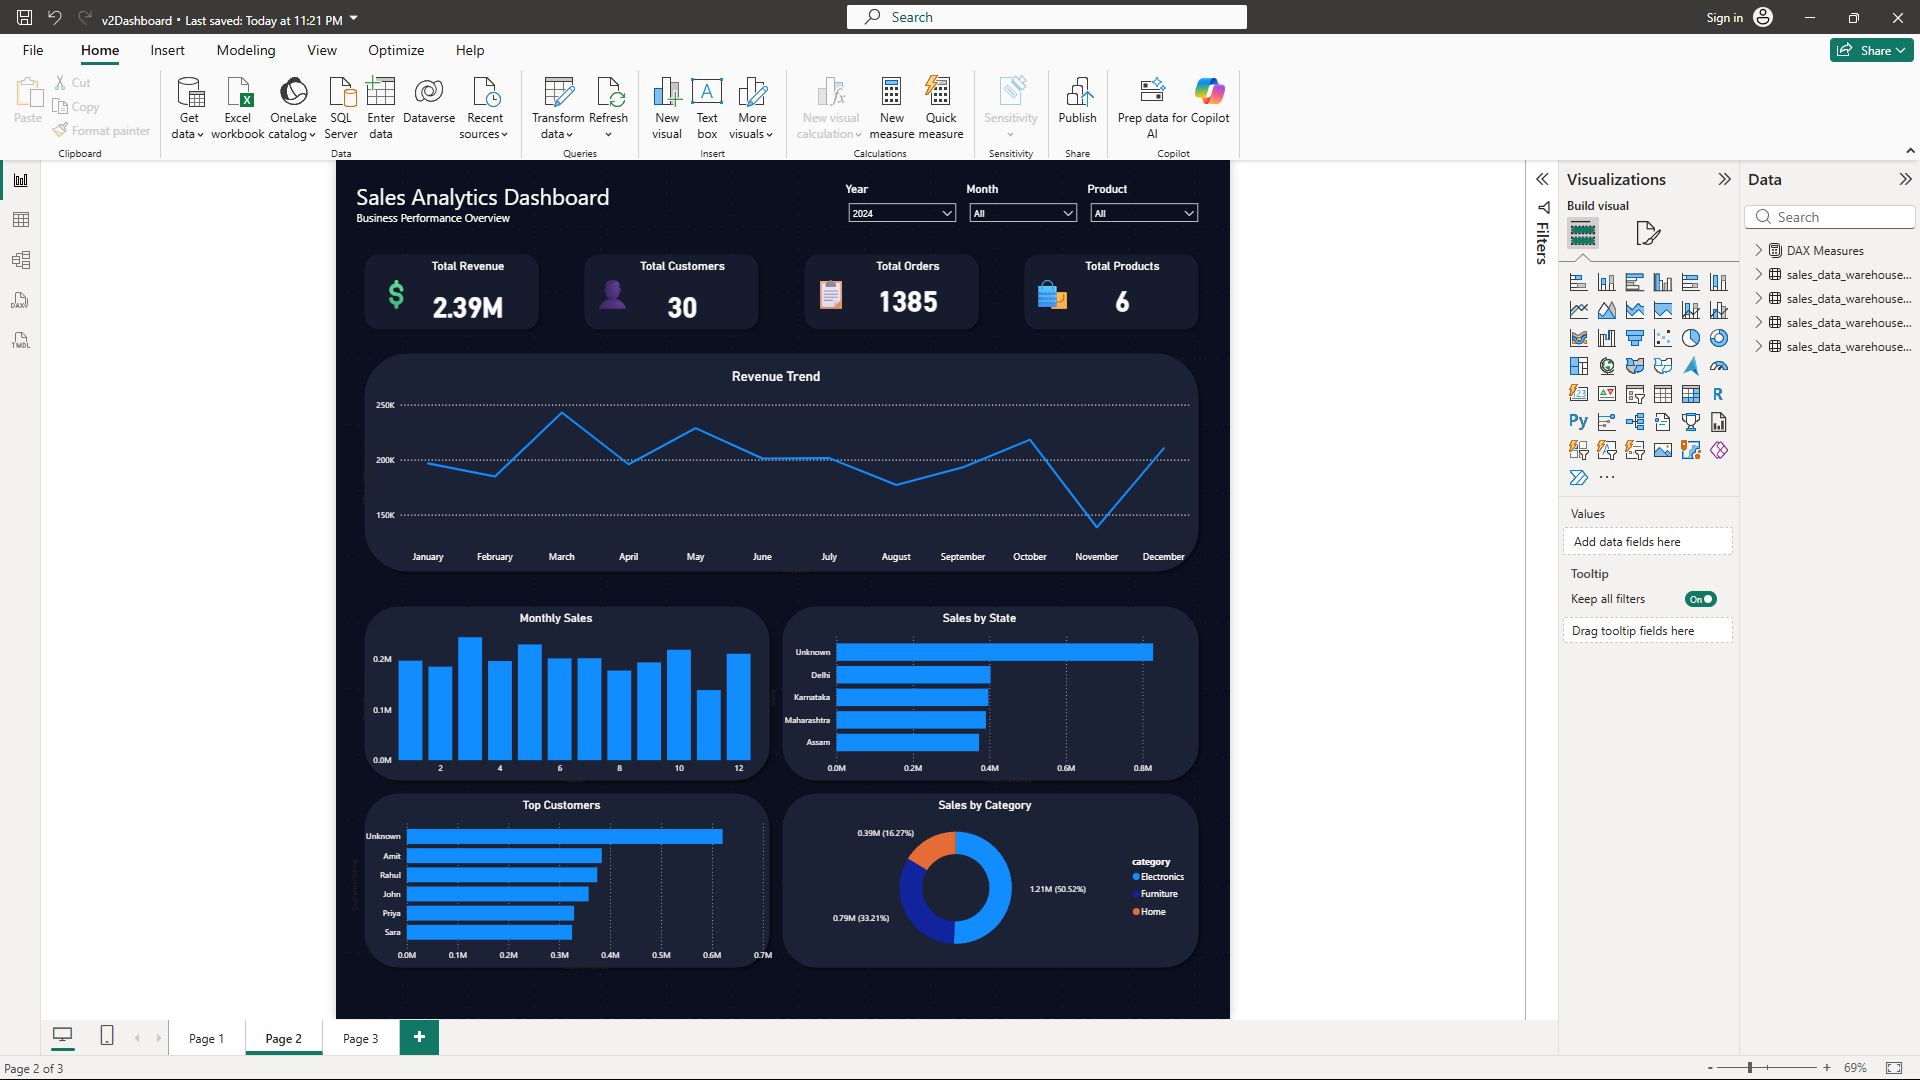

What the dashboard file says about the page in this screenshot:
{"tool":"powerbi","page":{"name":"Page 2","canvas":[1300,1250],"ordinal":0},"visuals":[{"type":"shape","box":[352,128,272,128],"z":0},{"type":"shape","box":[672,128,272,128],"z":1000},{"type":"shape","box":[32,128,272,128],"z":2000},{"type":"shape","box":[992,128,272,128],"z":3000},{"type":"shape","box":[32,272,1232,336],"z":4000},{"type":"shape","box":[32,640,608,272],"z":5000},{"type":"shape","box":[640,912,624,272],"z":6000},{"type":"shape","box":[640,640,624,272],"z":7000},{"type":"shape","box":[32,912,608,272],"z":8000},{"type":"lineChart","title":"Revenue Trend","fields":{"Y":["DAX Measures.Total Revenue"],"Category":["sales_data_warehouse dimdate.OrderDate.Variation.Date Hierarchy.Month"]},"box":[32,304,1216,304],"z":9000},{"type":"clusteredColumnChart","title":"Monthly Sales","fields":{"Y":["DAX Measures.Total Revenue"],"Category":["sales_data_warehouse dimdate.Month"]},"box":[32,656,576,256],"z":10000},{"type":"donutChart","title":"Sales by Category","fields":{"Y":["DAX Measures.Total Revenue"],"Category":["sales_data_warehouse dimproduct.category"]},"box":[640,928,608,240],"z":11000},{"type":"clusteredBarChart","title":"Top Customers","fields":{"Category":["sales_data_warehouse dimcustomer.CustomerName"],"Y":["DAX Measures.Total Revenue"]},"box":[16,928,624,256],"z":12000},{"type":"clusteredBarChart","title":" Sales by State","fields":{"Y":["DAX Measures.Total Revenue"],"Category":["sales_data_warehouse dimcustomer.state"]},"box":[624,656,624,256],"z":13000},{"type":"card","title":"Total Revenue","fields":{"Values":["DAX Measures.Total Revenue"]},"box":[64,144,256,112],"z":14000},{"type":"card","title":"Total Customers","fields":{"Values":["DAX Measures.Total Customer"]},"box":[384,144,240,112],"z":15000},{"type":"card","title":"Total Orders","fields":{"Values":["DAX Measures.Total Order"]},"box":[720,144,224,96],"z":16000},{"type":"card","title":"Total Products","fields":{"Values":["DAX Measures.Total Product"]},"box":[1024,144,240,96],"z":17000},{"type":"textbox","box":[24,24,408,96],"z":18000},{"type":"slicer","title":"Year","fields":{"Values":["sales_data_warehouse dimdate.Year"]},"box":[736,32,176,80],"z":19000},{"type":"slicer","title":"Month","fields":{"Values":["sales_data_warehouse dimdate.Month"]},"box":[912,32,176,96],"z":20000},{"type":"slicer","title":"Product","fields":{"Values":["sales_data_warehouse dimproduct.Product"]},"box":[1088,32,176,80],"z":21000},{"type":"textbox","box":[16,160,144,96],"z":22000},{"type":"textbox","box":[368,160,96,96],"z":23000},{"type":"textbox","box":[656,160,128,96],"z":24000},{"type":"textbox","box":[1008,160,80,96],"z":25000}]}

Visuals, with their boxes on the page's 1300x1250 design canvas (x1, y1, x2, y2). These are canvas units, not pixel positions in the 1920x1080 screenshot, which may show the page scaled, cropped or inside an application window:
shape: <region>352, 128, 624, 256</region>
shape: <region>672, 128, 944, 256</region>
shape: <region>32, 128, 304, 256</region>
shape: <region>992, 128, 1264, 256</region>
shape: <region>32, 272, 1264, 608</region>
shape: <region>32, 640, 640, 912</region>
shape: <region>640, 912, 1264, 1184</region>
shape: <region>640, 640, 1264, 912</region>
shape: <region>32, 912, 640, 1184</region>
"Revenue Trend" lineChart: <region>32, 304, 1248, 608</region>
"Monthly Sales" clusteredColumnChart: <region>32, 656, 608, 912</region>
"Sales by Category" donutChart: <region>640, 928, 1248, 1168</region>
"Top Customers" clusteredBarChart: <region>16, 928, 640, 1184</region>
" Sales by State" clusteredBarChart: <region>624, 656, 1248, 912</region>
"Total Revenue" card: <region>64, 144, 320, 256</region>
"Total Customers" card: <region>384, 144, 624, 256</region>
"Total Orders" card: <region>720, 144, 944, 240</region>
"Total Products" card: <region>1024, 144, 1264, 240</region>
textbox: <region>24, 24, 432, 120</region>
"Year" slicer: <region>736, 32, 912, 112</region>
"Month" slicer: <region>912, 32, 1088, 128</region>
"Product" slicer: <region>1088, 32, 1264, 112</region>
textbox: <region>16, 160, 160, 256</region>
textbox: <region>368, 160, 464, 256</region>
textbox: <region>656, 160, 784, 256</region>
textbox: <region>1008, 160, 1088, 256</region>
